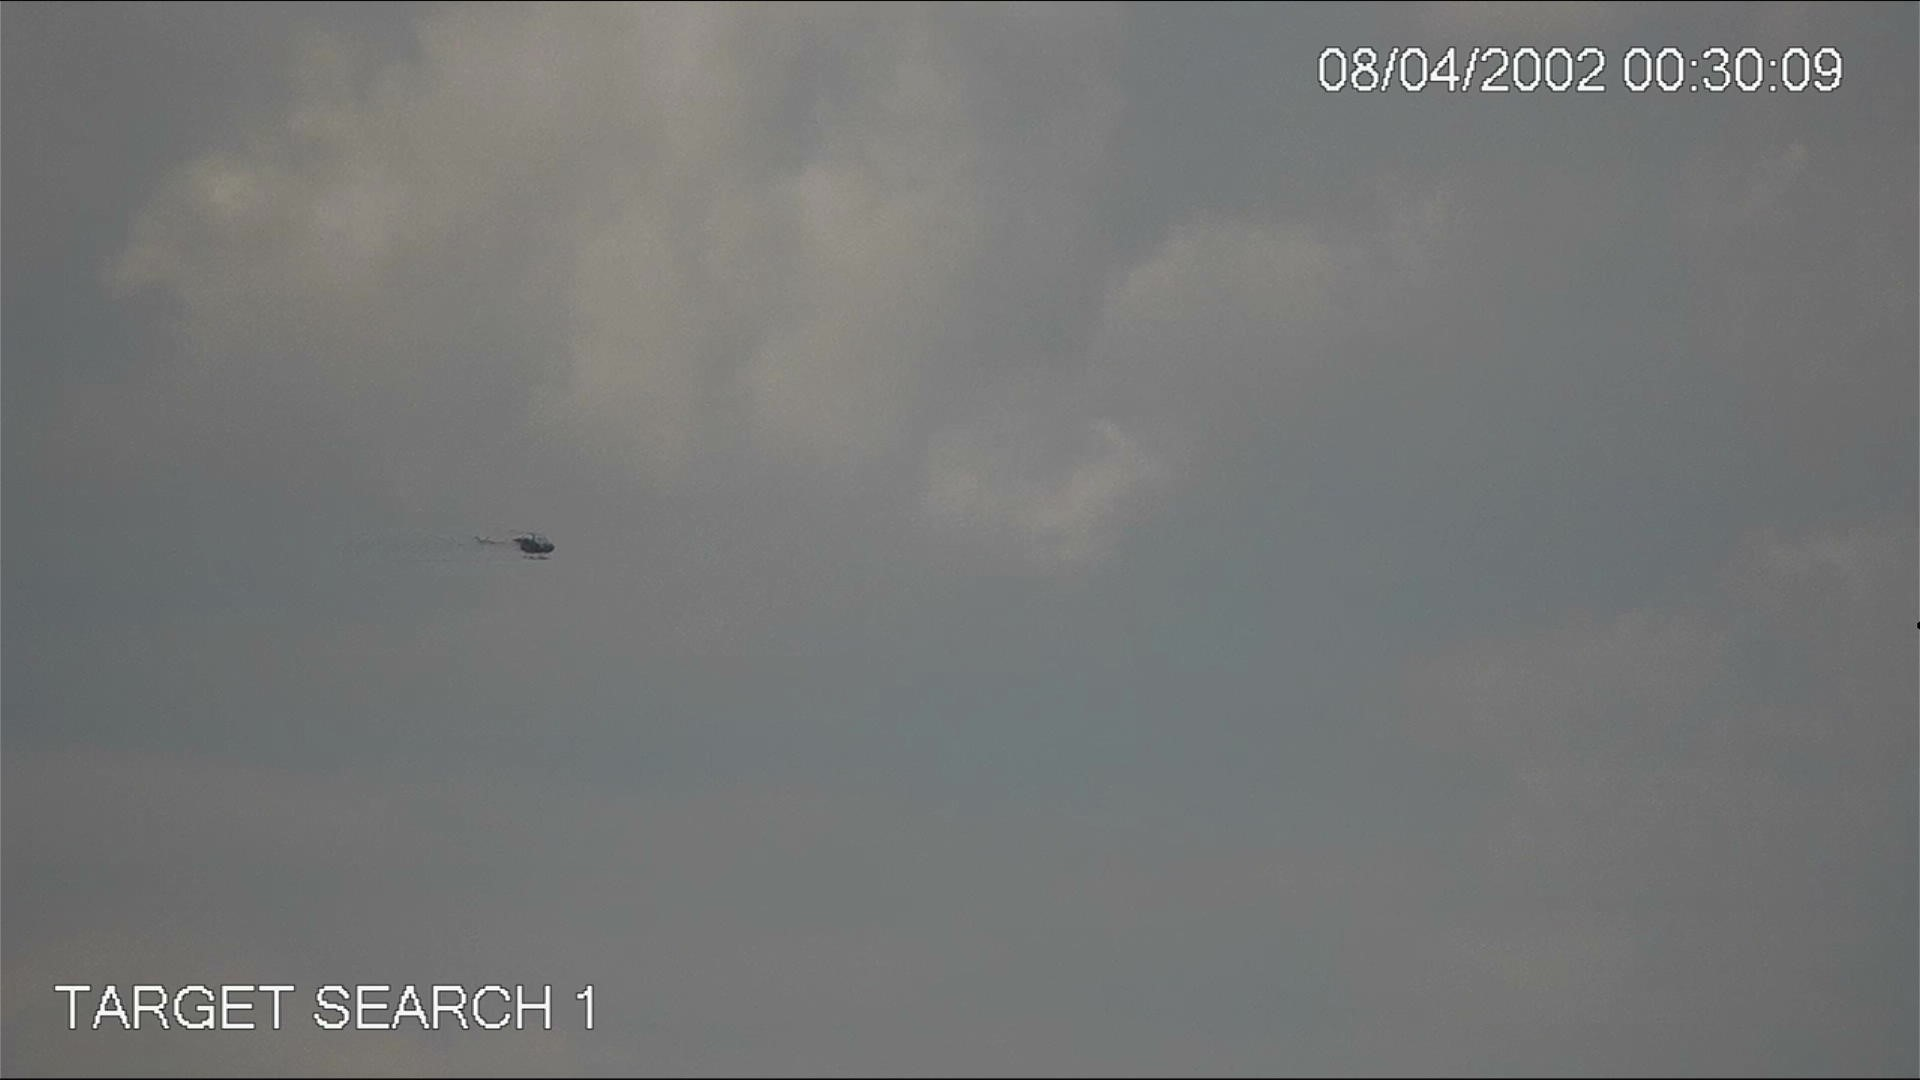SU_30: (475, 527, 559, 563)
